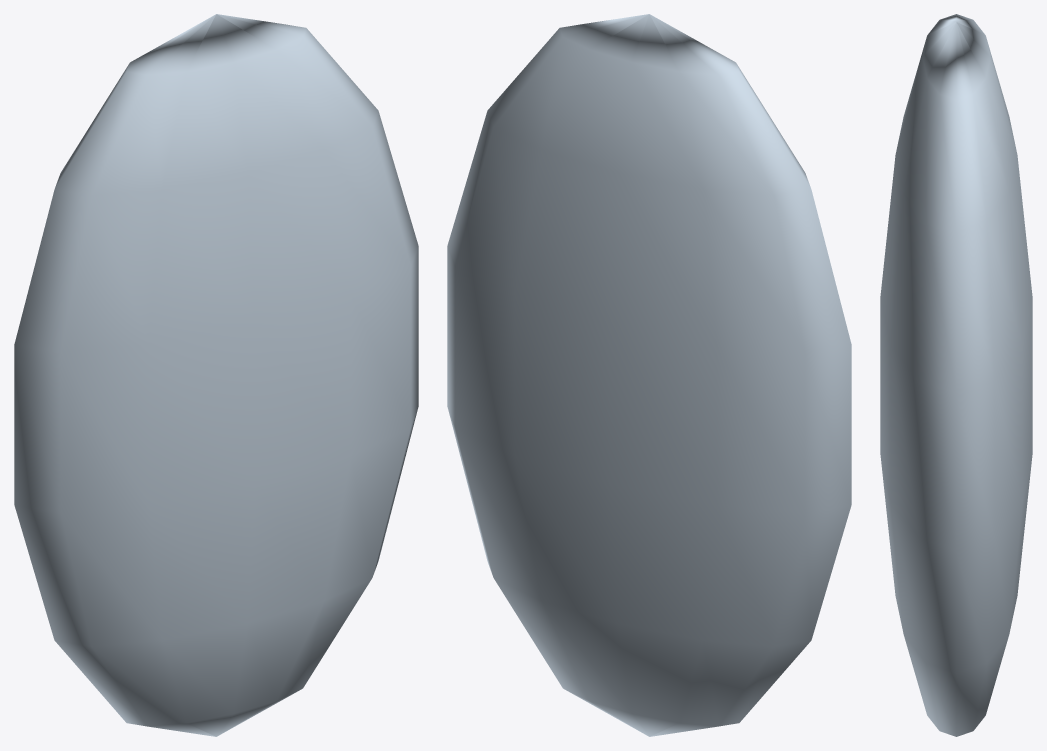
Rendered from 2072_Leaving_SweatDroplet.fbx.
3 views of the same model, side by side, from view 1: azimuth 30°, elevation 25°; view 2: azimuth 150°, elevation 25°; view 3: azimuth 270°, elevation 25° (orthographic). The views are drawn at different scales.
Parts seen in each view (by area): view 1: PART_NeutralSweatDroplet; view 2: PART_NeutralSweatDroplet; view 3: PART_NeutralSweatDroplet.
Part boxes in pixels (box(x1,y1,x2,y2)): PART_NeutralSweatDroplet: box(14, 14, 418, 736); PART_NeutralSweatDroplet: box(447, 14, 851, 736); PART_NeutralSweatDroplet: box(880, 14, 1032, 736).
Size of the model in its own units: 14.04 by 24 by 4.68.
